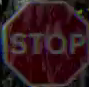Stop: (2, 1, 88, 86)
